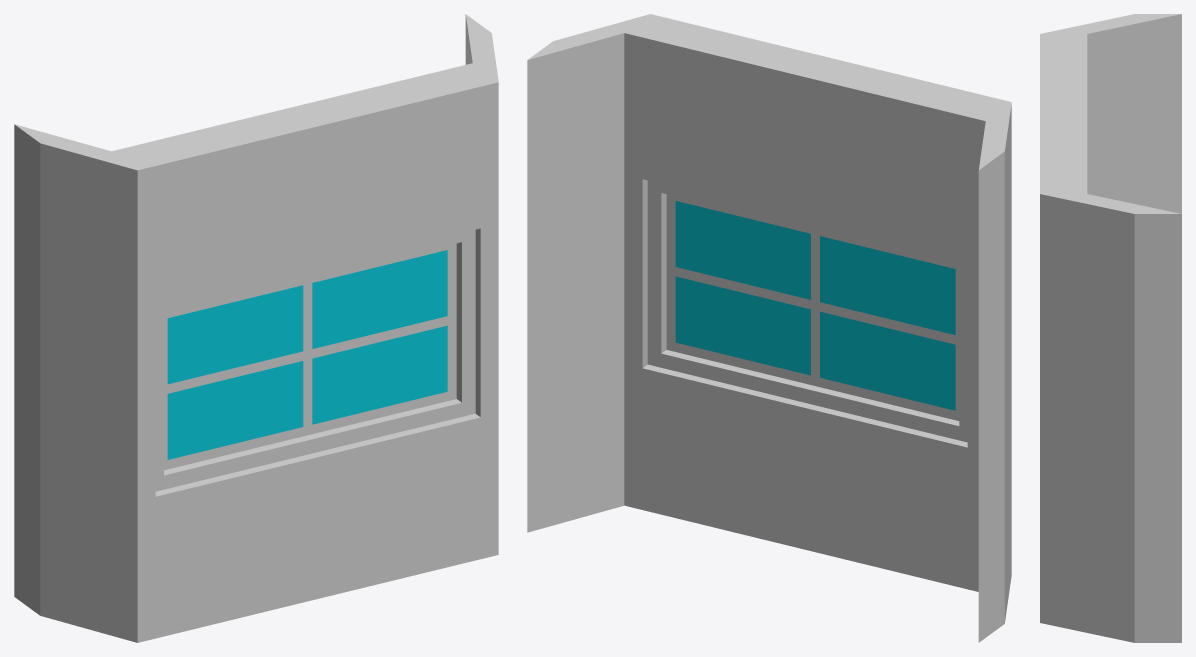
The model's file is window_bay_3.glb.
3 views of the same model, side by side, from view 1: azimuth 30°, elevation 25°; view 2: azimuth 150°, elevation 25°; view 3: azimuth 270°, elevation 25° (orthographic). The views are drawn at different scales.
Visible parts, largest first — view 1: window_bay_3; view 2: window_bay_3; view 3: window_bay_3.
Boxes of the visible parts, x1,y1,x2,y2 form: window_bay_3: [14, 14, 498, 642]; window_bay_3: [527, 14, 1011, 642]; window_bay_3: [1040, 14, 1181, 642].
Size of the model in its own units: 1 by 1 by 0.3.
